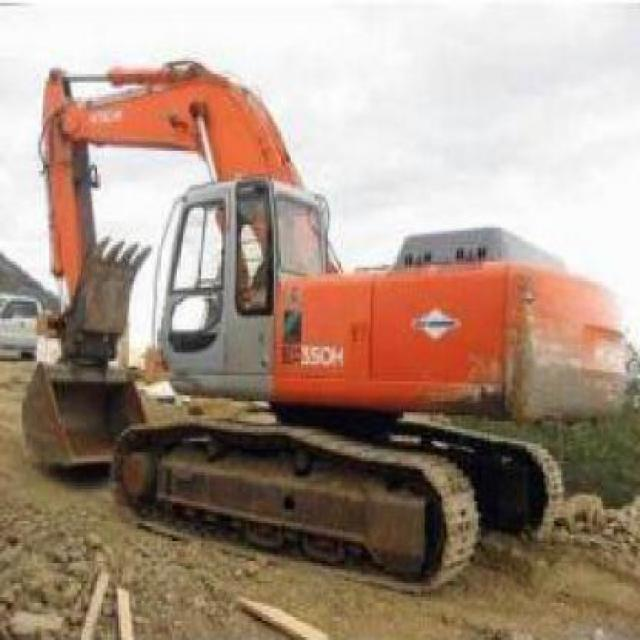Excavator: (13, 49, 625, 592)
